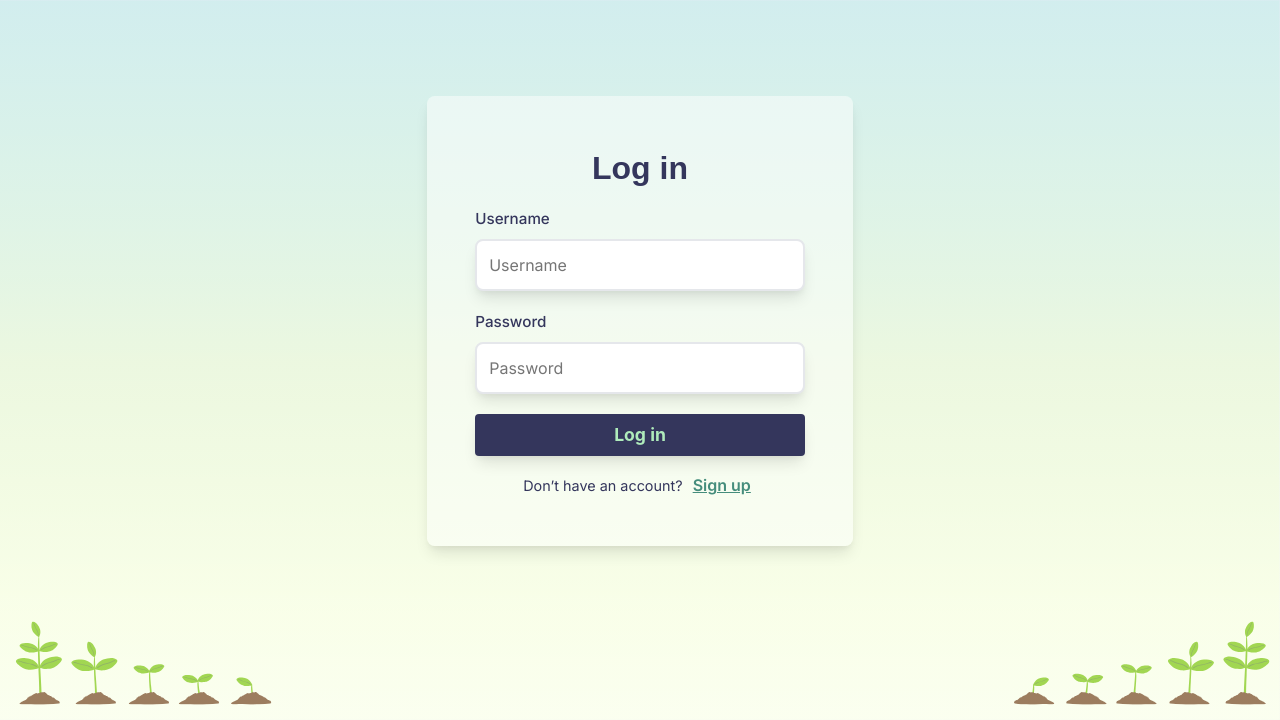
Test: failed login shows error and does not navigate
The image size is (1280, 720).
In the field labelled "Username": {"x": 640, "y": 265} [475, 239, 805, 291], type "aigerim"
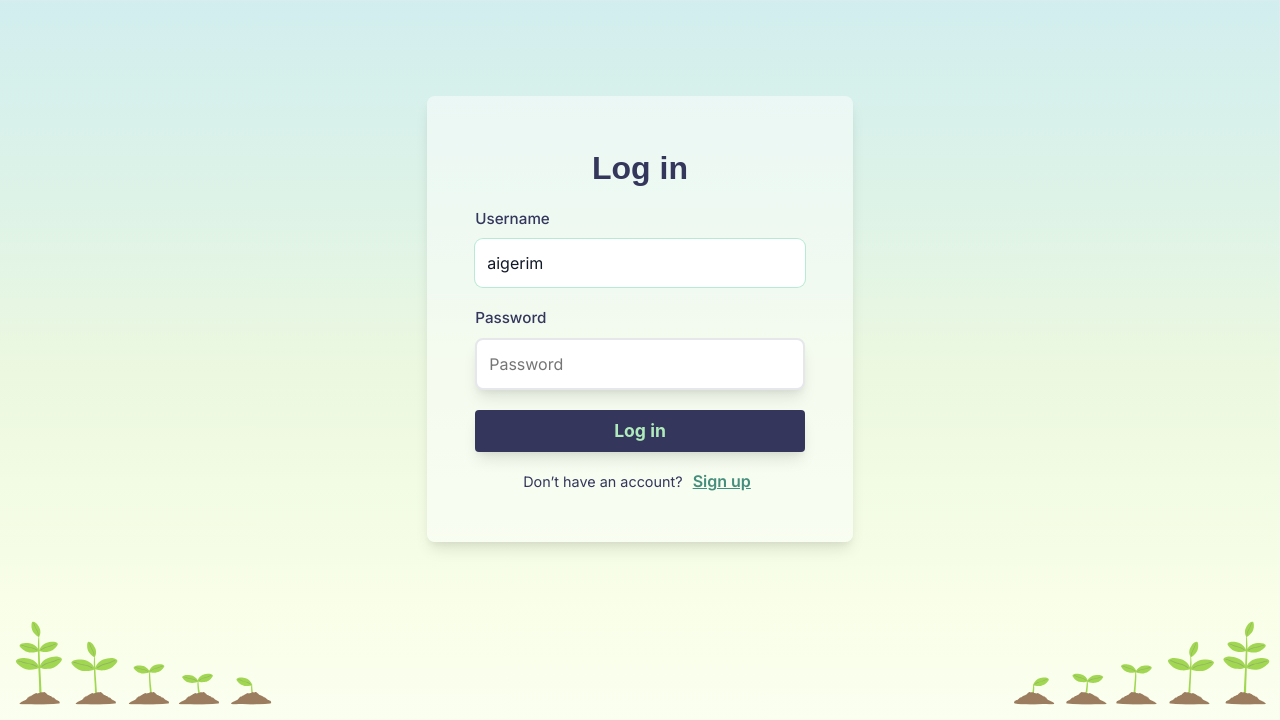
In the password field labelled "Password": {"x": 640, "y": 364} [475, 338, 805, 390], type "wrongpass"
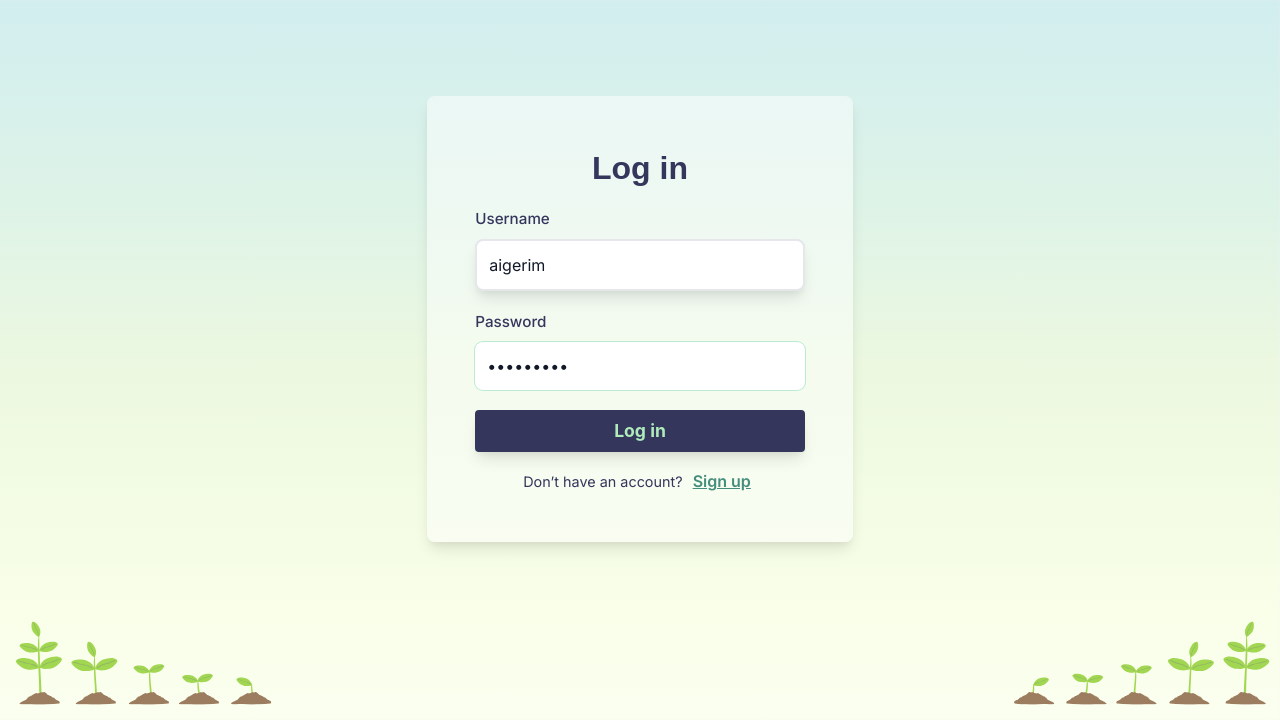
Click the button "Log in": {"x": 640, "y": 431} [475, 410, 805, 452]
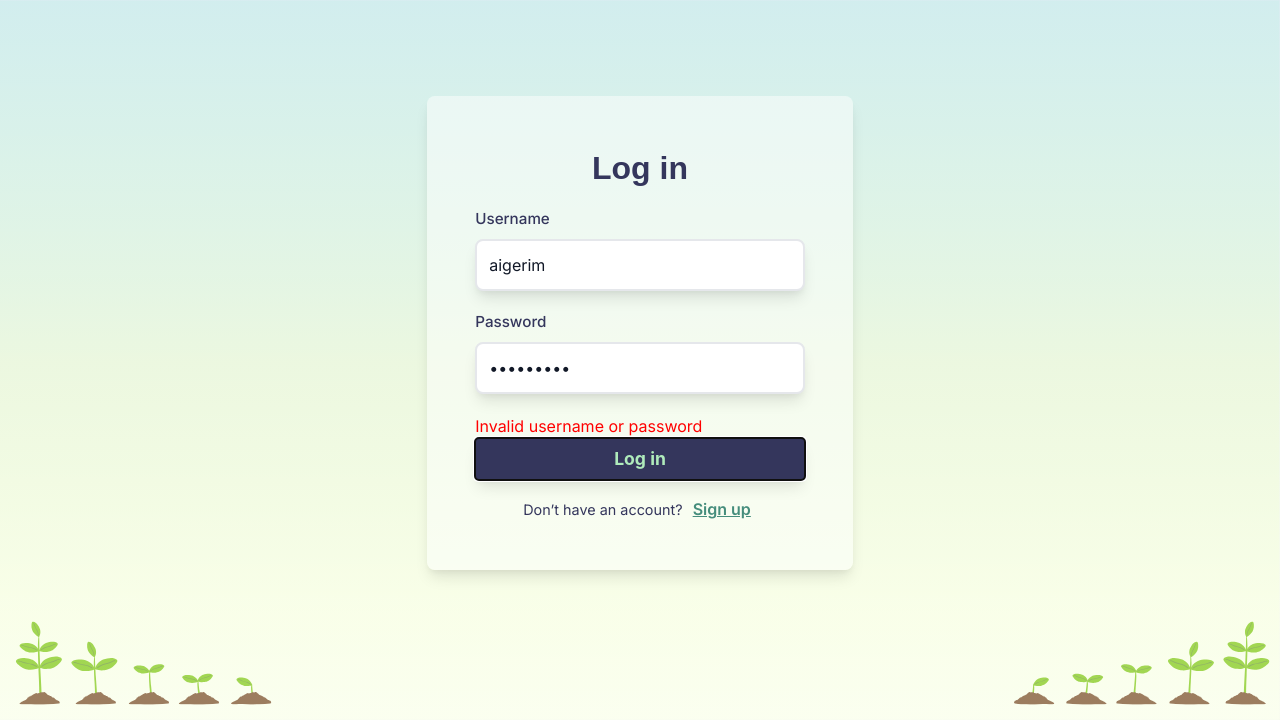
Now the text "Invalid username or password" is shown, box [475, 416, 702, 436]
